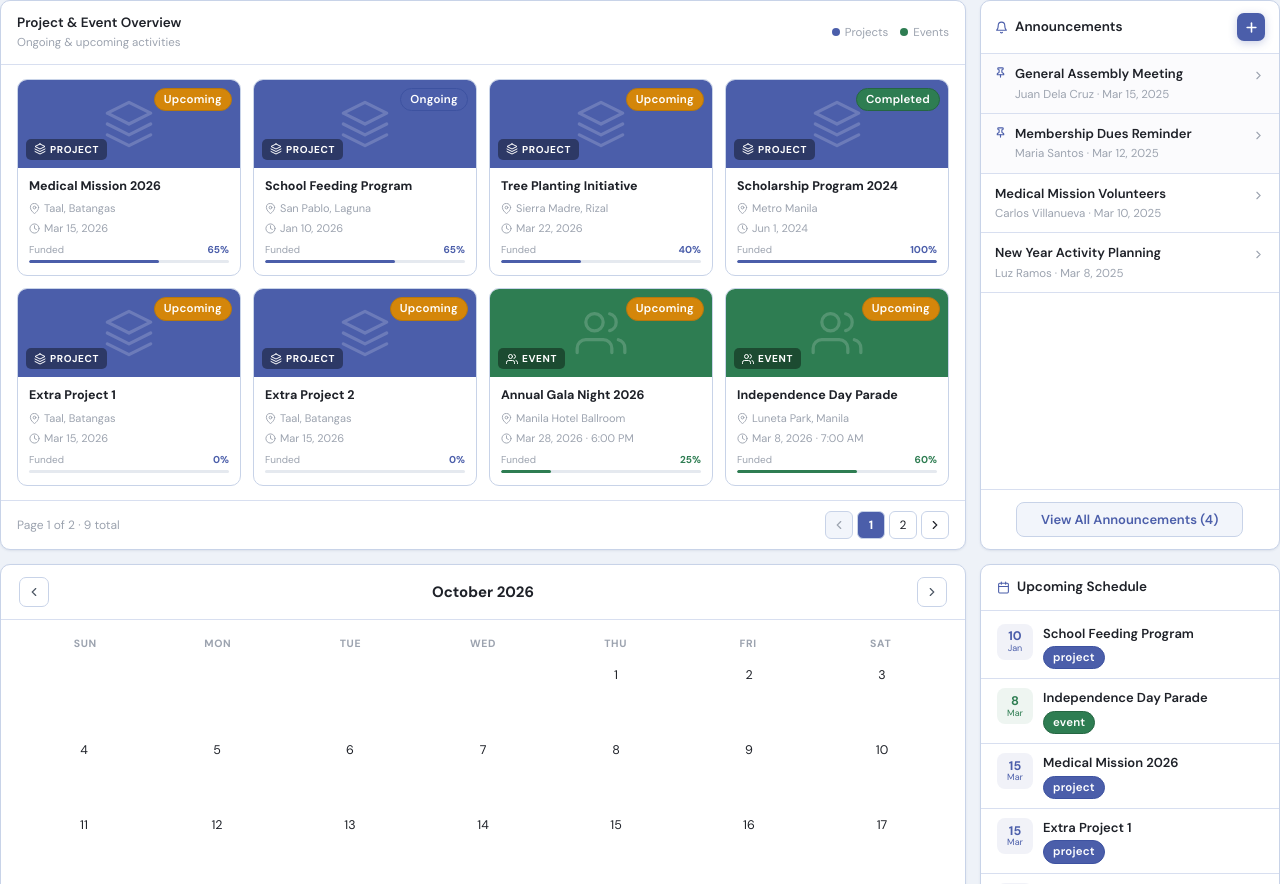
Test case: edit/save flows › Announcements: project tiles open a Project detail and page buttons change the page
Click the button "2" at [903, 525], box [889,511,917,539]
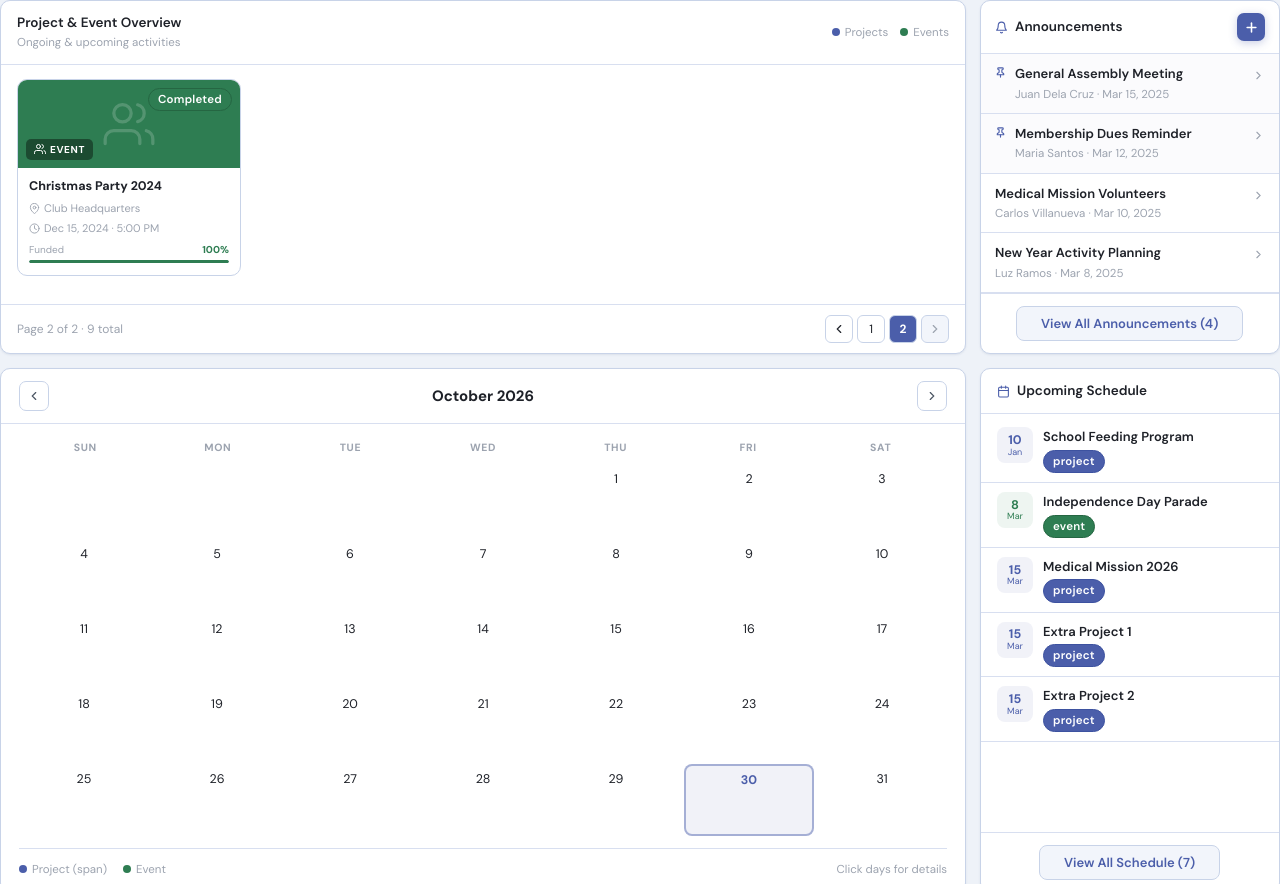
Expected: the text "Page 2 of 2" is shown, [17,320,123,338]
